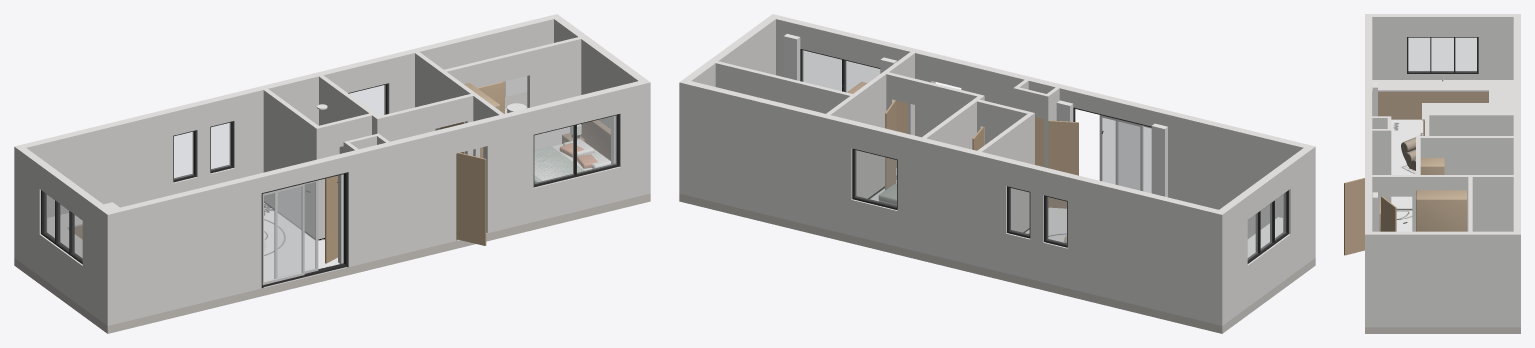
The model's file is demohouse.glb.
The picture shows the model from 3 angles, left to right: view 1: azimuth 30°, elevation 25°; view 2: azimuth 150°, elevation 25°; view 3: azimuth 270°, elevation 25°; orthographic projection. The views are drawn at different scales.
Visible parts, largest first — view 1: Wall_Ext_South, Wall_Ext_North, Wall_Ext_West, Floor_Slab, Wall_Int_Bath1_West, SlideDoor_Living_Sash_Fixed, Win_Master_Glass, SlideDoor_Living_Sash_Sliding, Wall_Int_MasterBath_Right, Wall_Ext_East, Blueprint_Plane, MainDoor_Leaf (+14 smaller); view 2: Wall_Ext_North, Wall_Ext_South, Wall_Ext_West, Floor_Slab, Wall_Int_Twin_Master, Wall_Ext_East, SlideDoor_Living_Sash_Sliding, Wall_Int_Twin_South, Wall_Int_Bath1_West, SlideDoor_Living_Sash_Fixed, Win_TwinBed_Glass, Win_Master_Glass (+16 smaller); view 3: Wall_Ext_East, Wall_Ext_West, Wall_Int_Twin_Master, Wall_Int_Bath1_Twin_Div, Win_Kitchen_Glass, Master_Wardrobe, Kitchen_Cabinet_West, Wall_Int_Bath1_West, Blueprint_Plane, Wall_Ext_North, Wall_Ext_South, MainDoor_Leaf (+14 smaller).
Part boxes in pixels (bbox=[...]): Wall_Ext_South: bbox=[111, 81, 643, 323]; Wall_Ext_North: bbox=[22, 16, 553, 217]; Wall_Ext_West: bbox=[14, 144, 115, 325]; Floor_Slab: bbox=[14, 193, 650, 333]; Wall_Int_Bath1_West: bbox=[263, 89, 321, 239]; SlideDoor_Living_Sash_Fixed: bbox=[262, 183, 304, 284]; Win_Master_Glass: bbox=[534, 115, 616, 184]; SlideDoor_Living_Sash_Sliding: bbox=[274, 180, 318, 278]; Wall_Int_MasterBath_Right: bbox=[527, 37, 581, 150]; Wall_Ext_East: bbox=[550, 14, 650, 195]; Blueprint_Plane: bbox=[262, 201, 487, 288]; MainDoor_Leaf: bbox=[456, 153, 486, 245]; Wall_Ext_North: bbox=[686, 81, 1218, 323]; Wall_Ext_South: bbox=[776, 16, 1307, 238]; Wall_Ext_West: bbox=[1214, 144, 1315, 325]; Floor_Slab: bbox=[679, 193, 1315, 333]; Wall_Int_Twin_Master: bbox=[826, 52, 914, 198]; Wall_Ext_East: bbox=[679, 14, 779, 195]; SlideDoor_Living_Sash_Sliding: bbox=[1099, 115, 1143, 191]; Wall_Int_Twin_South: bbox=[886, 72, 979, 135]; Wall_Int_Bath1_West: bbox=[977, 112, 1034, 232]; SlideDoor_Living_Sash_Fixed: bbox=[1115, 121, 1151, 192]; Win_TwinBed_Glass: bbox=[855, 150, 896, 206]; Win_Master_Glass: bbox=[802, 50, 879, 91]; Wall_Ext_East: bbox=[1365, 231, 1520, 327]; Wall_Ext_West: bbox=[1365, 14, 1520, 79]; Wall_Int_Twin_Master: bbox=[1372, 175, 1513, 231]; Wall_Int_Bath1_Twin_Div: bbox=[1416, 136, 1513, 174]; Win_Kitchen_Glass: bbox=[1408, 38, 1476, 71]; Master_Wardrobe: bbox=[1416, 190, 1467, 231]; Kitchen_Cabinet_West: bbox=[1372, 91, 1488, 119]; Wall_Int_Bath1_West: bbox=[1425, 113, 1513, 135]; Blueprint_Plane: bbox=[1391, 119, 1423, 231]; Wall_Ext_North: bbox=[1513, 17, 1520, 231]; Wall_Ext_South: bbox=[1365, 17, 1372, 231]; MainDoor_Leaf: bbox=[1344, 178, 1364, 255].
Bounding box in the file's own units: 14.32 × 3 × 4.84.
25 materials, 7 textured.
